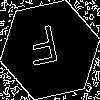F: (25, 25, 63, 75)
